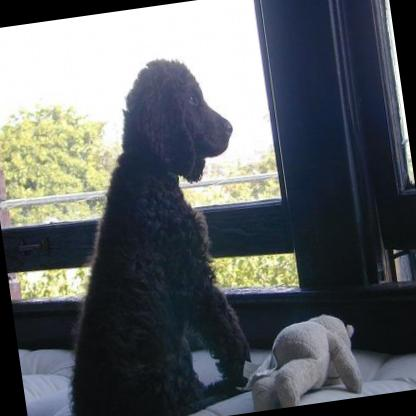Irish_water_spaniel: (24, 49, 270, 416)
